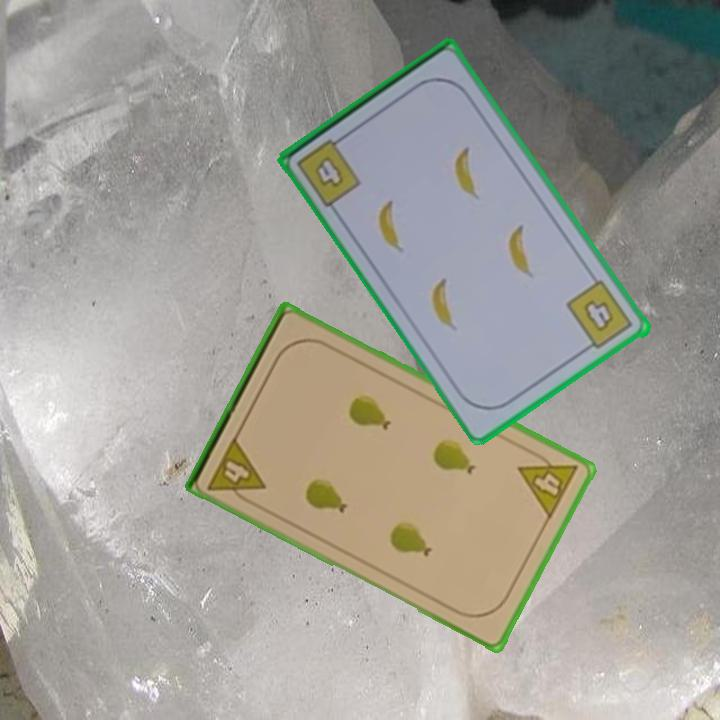4b: (563, 276, 637, 355), (311, 152, 348, 191)
4p: (514, 444, 581, 522), (204, 433, 269, 509)
